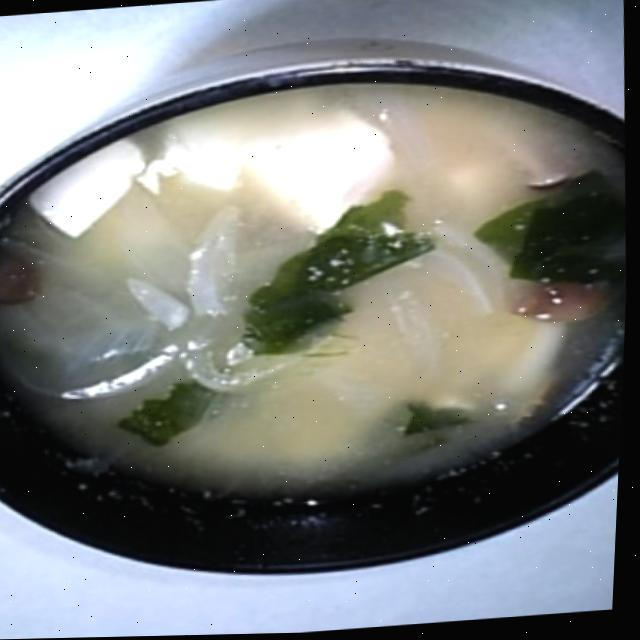汤锅炖物: (0, 19, 639, 595)
